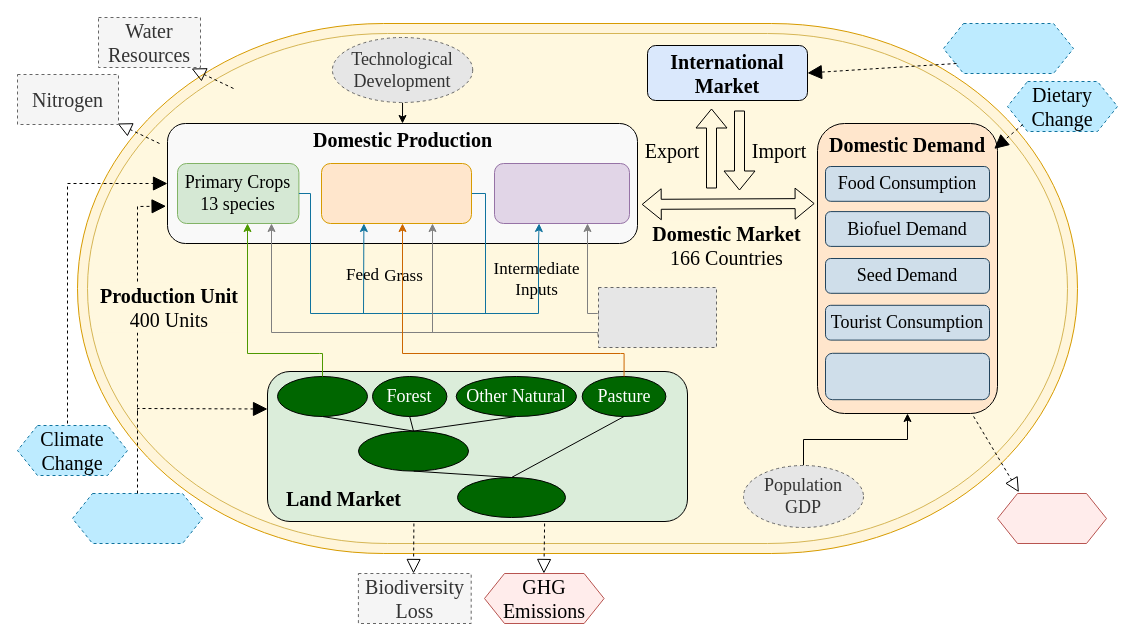
The diagram is 1135 pixels wide and 641 high, and some of its shapes have lost their labels. Each missing label, with the centre of its shape:
Arable Land: the point at 511,497
Cropland: the point at 322,396
Food Loss Food Waste: the point at 907,376
Food Security: the point at 1051,518
Livestock products 6 types: the point at 396,193
Mitigation Measures: the point at 137,518
Non-Pasture: the point at 413,450
Other Inputs (capital, labour, energy, etc.): the point at 657,317
Processed Goods 4 types: the point at 562,193
Trade Conditions: the point at 1008,48
